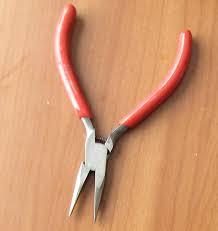pliers: (52, 1, 192, 222)
